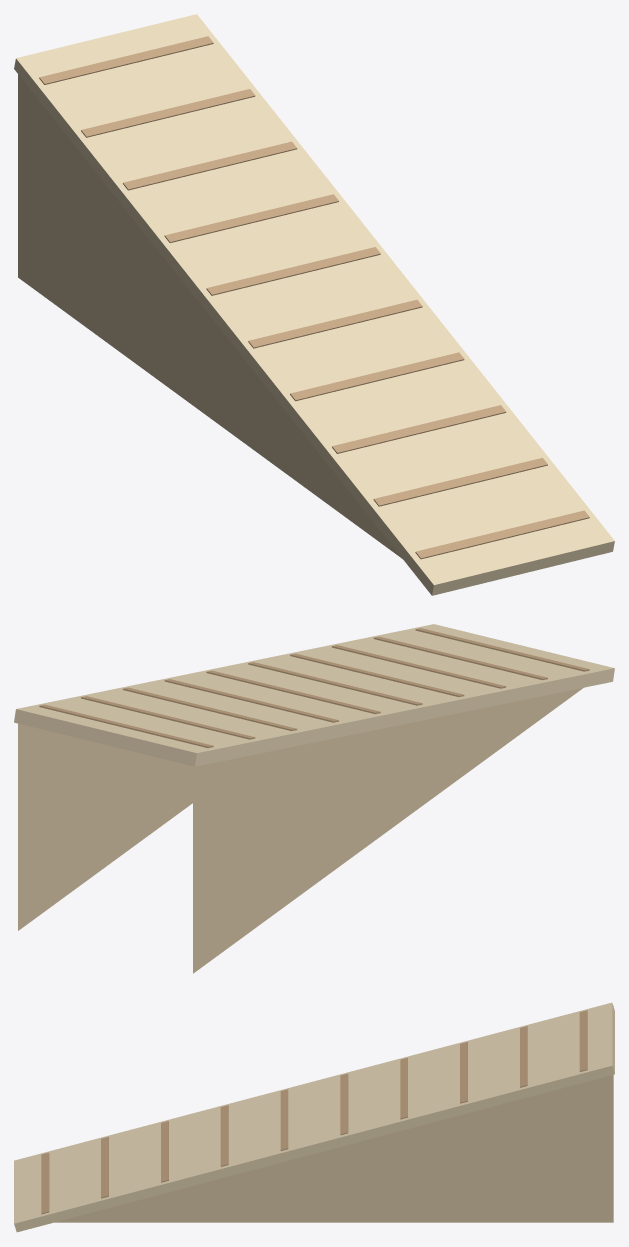
Rendered from SD_Ramp.fbx.
3 renders of one model, top to bottom at view 1: azimuth 30°, elevation 25°; view 2: azimuth 150°, elevation 25°; view 3: azimuth 270°, elevation 25°, orthographic. The views are drawn at different scales.
Visible parts, largest first — view 1: SD_Ramp; view 2: SD_Ramp; view 3: SD_Ramp.
Boxes of the visible parts, x1,y1,x2,y2 form: SD_Ramp: (14, 14, 614, 595); SD_Ramp: (14, 624, 614, 973); SD_Ramp: (14, 1002, 614, 1232).
Bounding box in the file's own units: 3 × 3.69 × 12.06.
